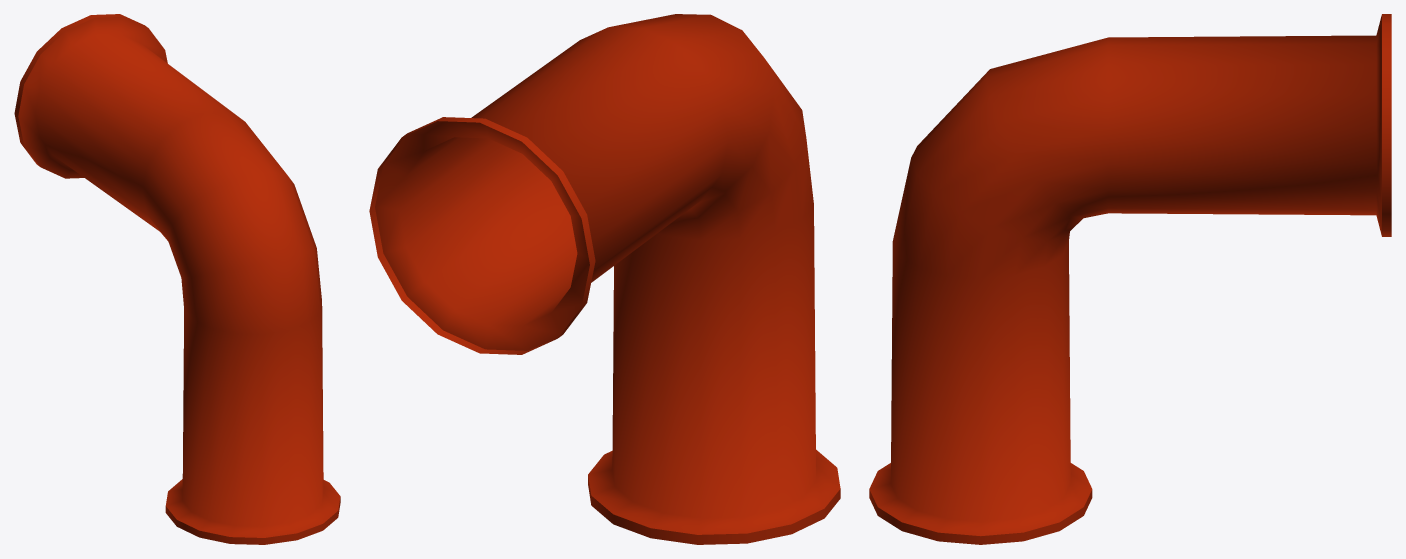
Rendered from Pipe_14_LOD0.FBX.
3 views of the same model, side by side, from view 1: azimuth 30°, elevation 25°; view 2: azimuth 150°, elevation 25°; view 3: azimuth 270°, elevation 25° (orthographic). The views are drawn at different scales.
Visible parts, largest first — view 1: Pipe_up1_014_LOD0; view 2: Pipe_up1_014_LOD0; view 3: Pipe_up1_014_LOD0.
Part boxes in pixels (left/top/right/bottom): Pipe_up1_014_LOD0: left=14, top=14, right=340, bottom=544; Pipe_up1_014_LOD0: left=369, top=14, right=840, bottom=544; Pipe_up1_014_LOD0: left=869, top=14, right=1391, bottom=544.
Size of the model in its own units: 38 by 89 by 88.99.
